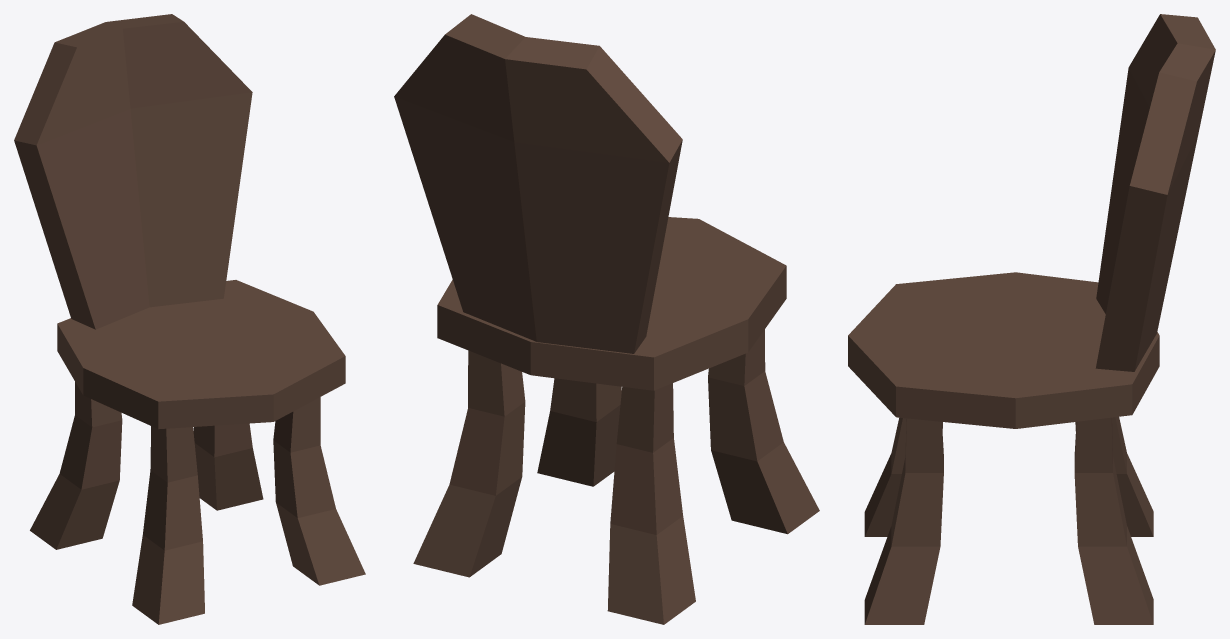
The model's file is chaise.FBX.
The picture shows the model from 3 angles, left to right: view 1: azimuth 30°, elevation 25°; view 2: azimuth 150°, elevation 25°; view 3: azimuth 270°, elevation 25°; orthographic projection. The views are drawn at different scales.
Visible parts, largest first — view 1: chaise; view 2: chaise; view 3: chaise.
Part boxes in pixels (box(x1,y1,x2,y2)): chaise: box(14, 14, 365, 624); chaise: box(394, 14, 819, 624); chaise: box(848, 14, 1215, 624).
Size of the model in its own units: 44.09 by 84.99 by 53.95.
1 material, 1 textured.
